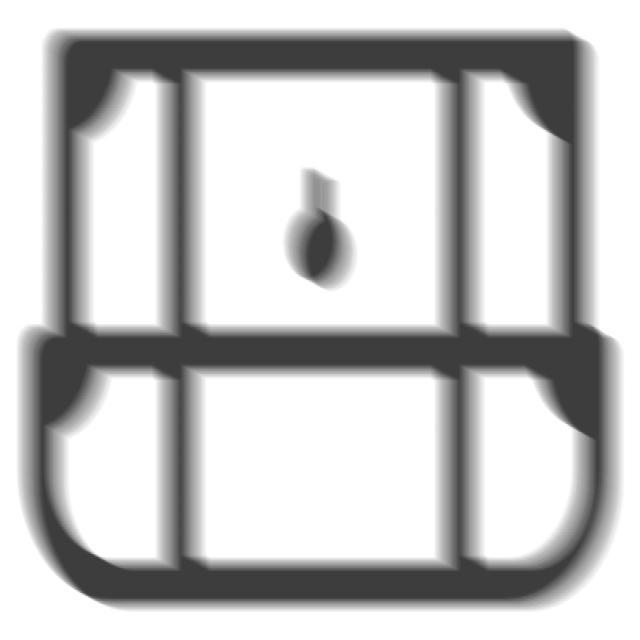treasure_box: (7, 29, 635, 622)
